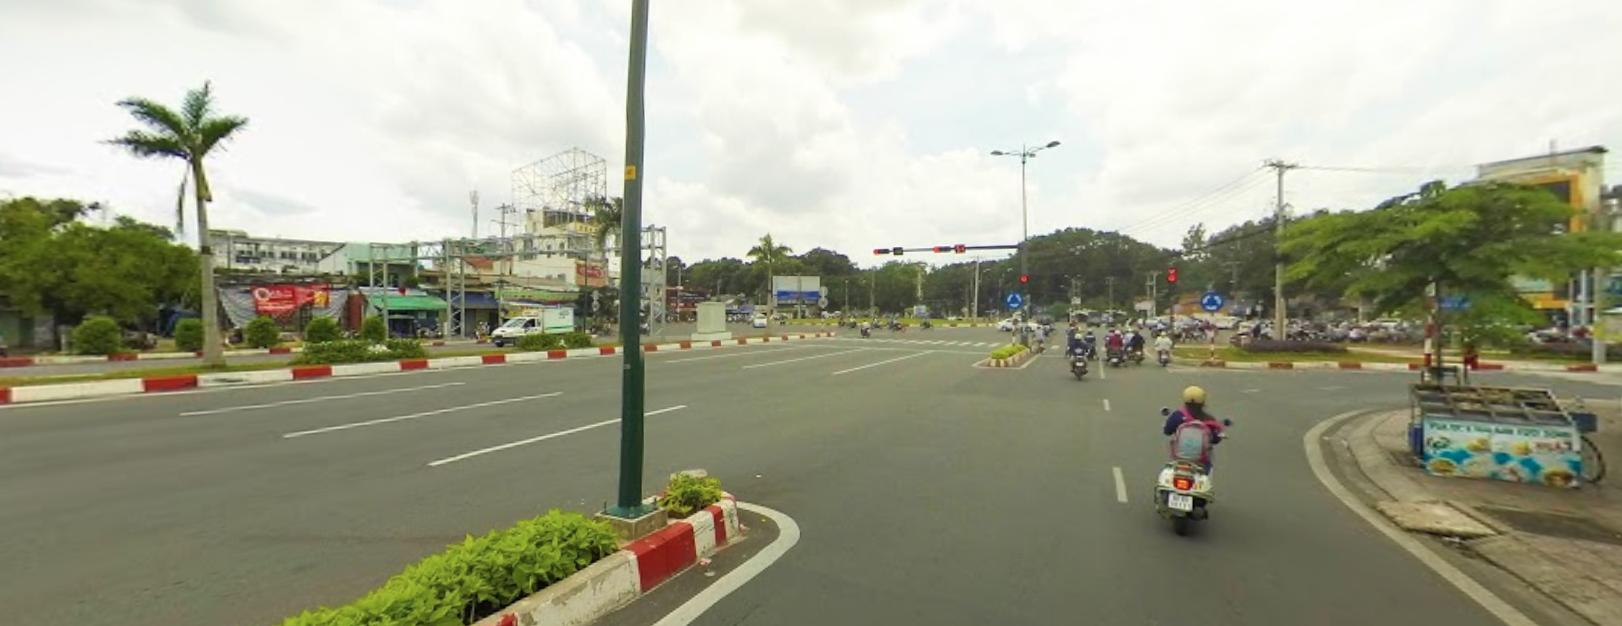Hieu lenh: (1199, 289, 1223, 311), (1005, 288, 1024, 306)
